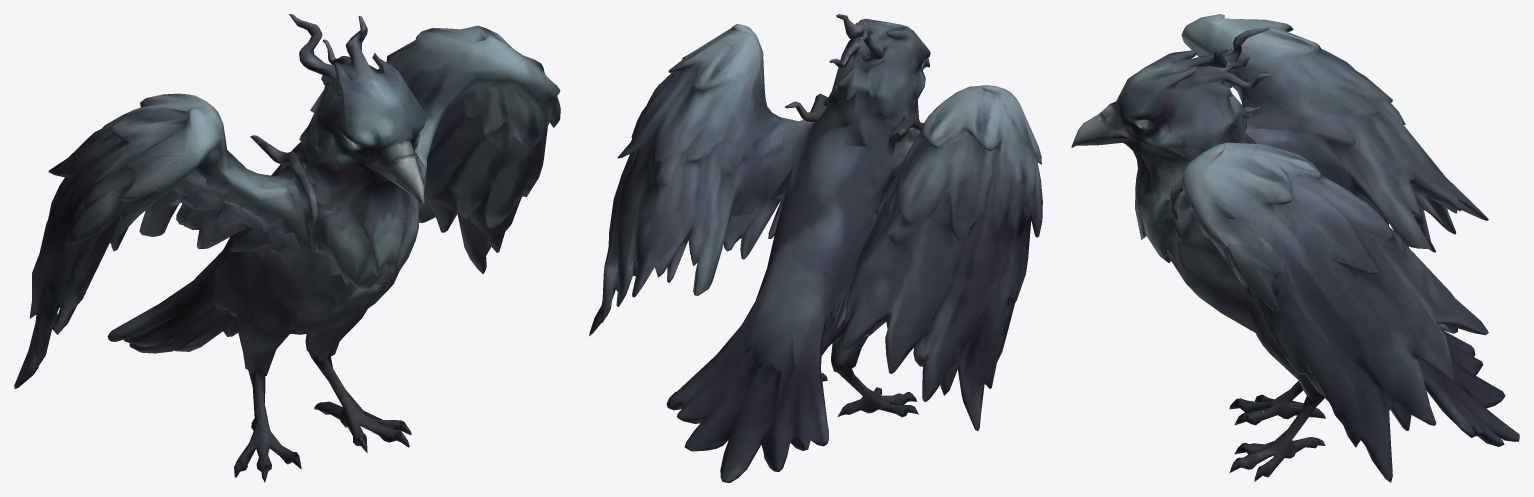
The model's file is brume_corbeau.glb.
3 renders of one model, left to right at view 1: azimuth 30°, elevation 25°; view 2: azimuth 150°, elevation 25°; view 3: azimuth 270°, elevation 25°, orthographic. The views are drawn at different scales.
Visible parts, largest first — view 1: Mesh_0; view 2: Mesh_0; view 3: Mesh_0.
Part boxes in pixels (x1,y1,x2,y2): Mesh_0: [14, 14, 560, 482]; Mesh_0: [589, 14, 1042, 482]; Mesh_0: [1071, 14, 1519, 482].
Size of the model in its own units: 1.9 by 1.65 by 1.65.
Materials: 1 (1 with a texture image).
